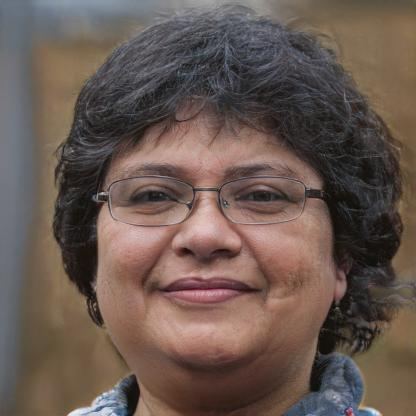glasses: (97, 173, 317, 228)
